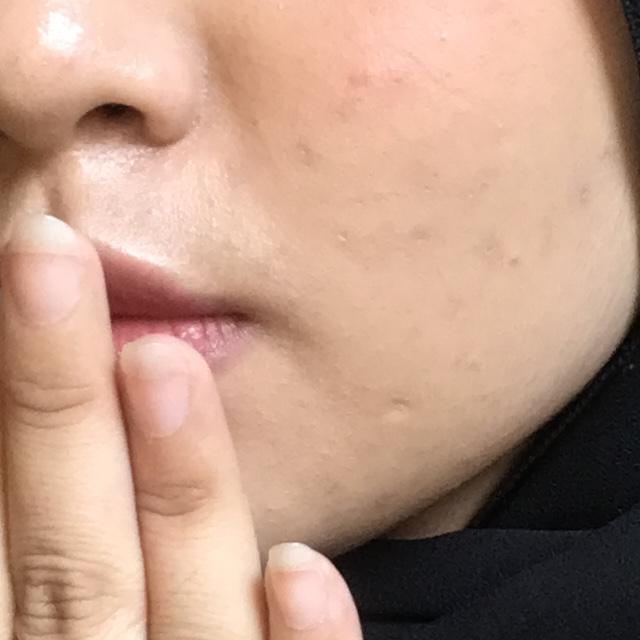ganteng: (0, 196, 510, 640)
